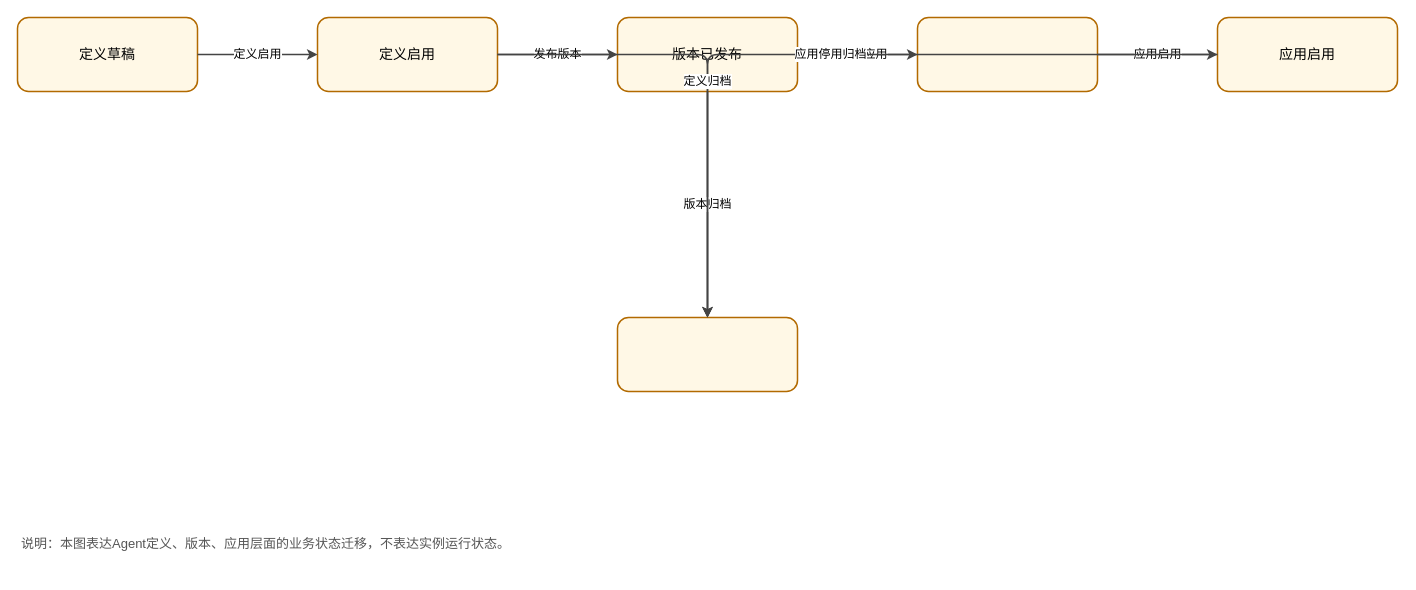
Some shapes in this 1416 by 590 pixel diagram are drawn without their labels. The shapes that lost their labels are listed below. From the top down, each one's box as (x1, y1, x2, y2) in pixels, then its label:
(916, 16, 1098, 92): 应用草稿
(616, 316, 798, 392): Agent归档
